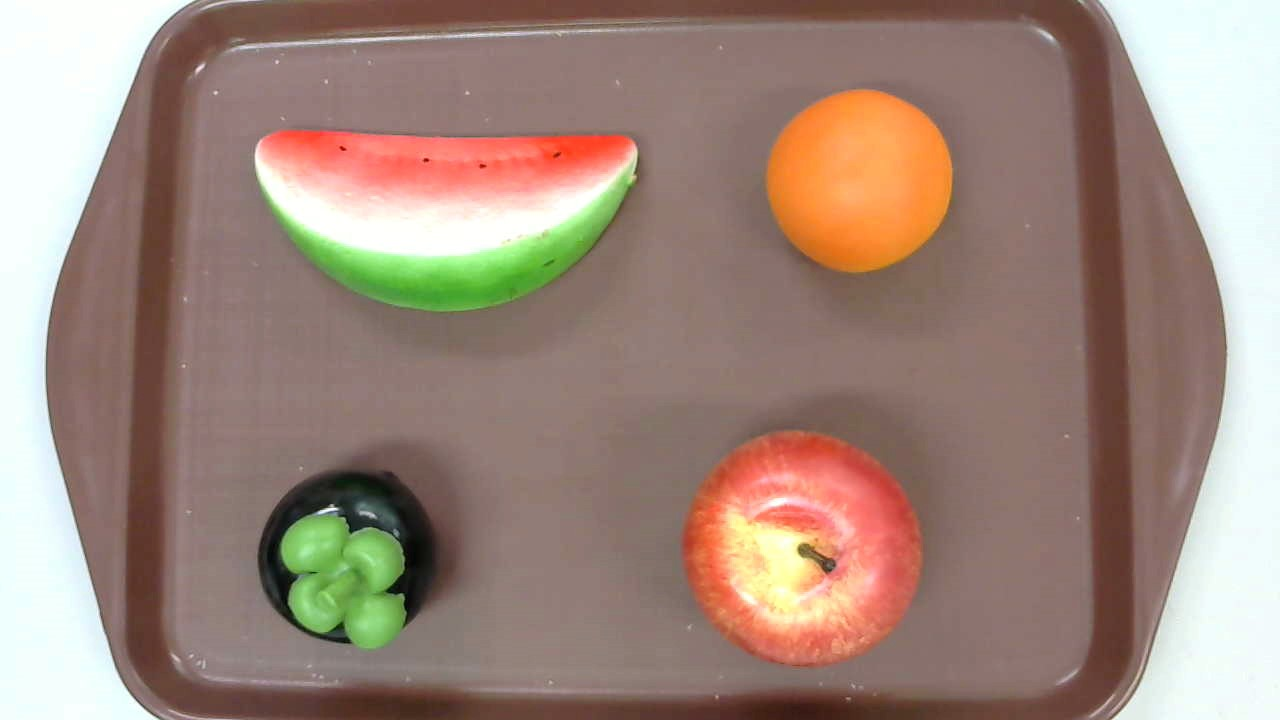bun: (766, 87, 953, 274)
mangosteen: (256, 466, 437, 652)
red apple: (682, 430, 922, 671)
watermelon: (253, 127, 638, 313)
